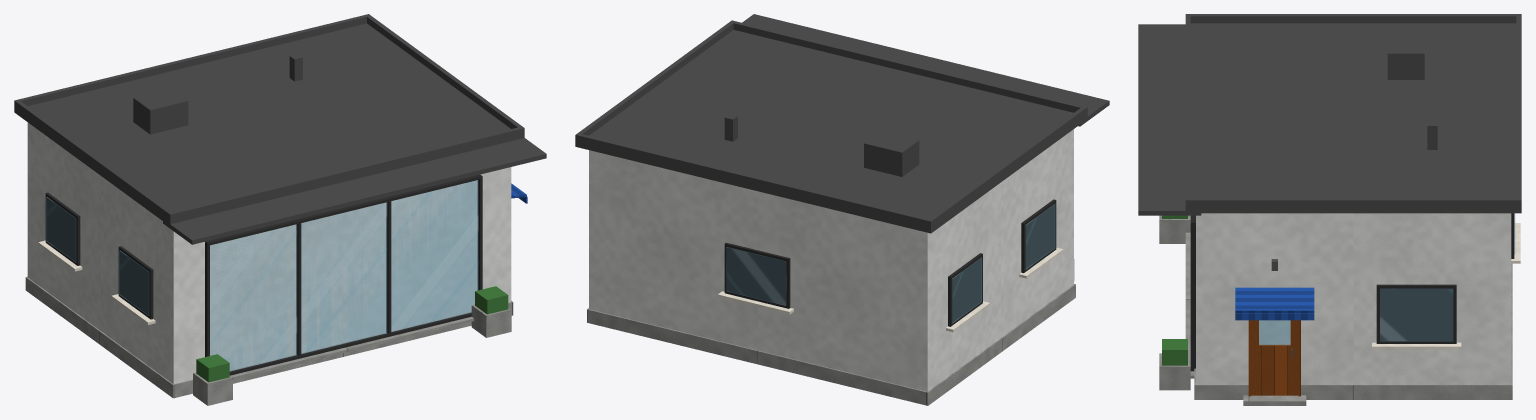
The model's file is shop_small_variant_c.glb.
3 views of the same model, side by side, from view 1: azimuth 30°, elevation 25°; view 2: azimuth 150°, elevation 25°; view 3: azimuth 270°, elevation 25° (orthographic). The views are drawn at different scales.
Parts seen in each view (by area): view 1: flat_4A4A4A, plaster_EDEDEA, glass_87CEEB, flat_2C2C2C, concrete_9A9A96, flat_3F7D3A, plaster_F2EBDD; view 2: plaster_EDEDEA, flat_4A4A4A, concrete_9A9A96, flat_2C2C2C, glass_87CEEB, plaster_F2EBDD; view 3: flat_4A4A4A, plaster_EDEDEA, concrete_9A9A96, flat_2C2C2C, glass_87CEEB, wood_door_8B4513, awning_fabric_1E4FA3, plaster_F2EBDD, flat_3F7D3A.
Part boxes in pixels (x1,y1,x2,y2): flat_4A4A4A: (14, 14, 546, 244); plaster_EDEDEA: (27, 122, 511, 384); glass_87CEEB: (46, 180, 478, 371); flat_2C2C2C: (45, 174, 482, 375); concrete_9A9A96: (25, 276, 513, 405); flat_3F7D3A: (196, 286, 508, 382); plaster_F2EBDD: (38, 240, 155, 324); plaster_EDEDEA: (589, 129, 1073, 391); flat_4A4A4A: (575, 14, 1109, 233); concrete_9A9A96: (587, 259, 1075, 405); flat_2C2C2C: (724, 199, 1056, 326); glass_87CEEB: (726, 204, 1055, 323); plaster_F2EBDD: (717, 247, 1063, 332); flat_4A4A4A: (1138, 14, 1521, 215); plaster_EDEDEA: (1196, 213, 1511, 384); concrete_9A9A96: (1159, 215, 1512, 405); flat_2C2C2C: (1190, 213, 1514, 371); glass_87CEEB: (1259, 213, 1515, 345); wood_door_8B4513: (1248, 320, 1300, 396); awning_fabric_1E4FA3: (1235, 287, 1314, 320); plaster_F2EBDD: (1372, 223, 1520, 349); flat_3F7D3A: (1162, 215, 1187, 365).
Size of the model in its own units: 9.02 by 4.67 by 7.3.
10 materials, 10 textured.
